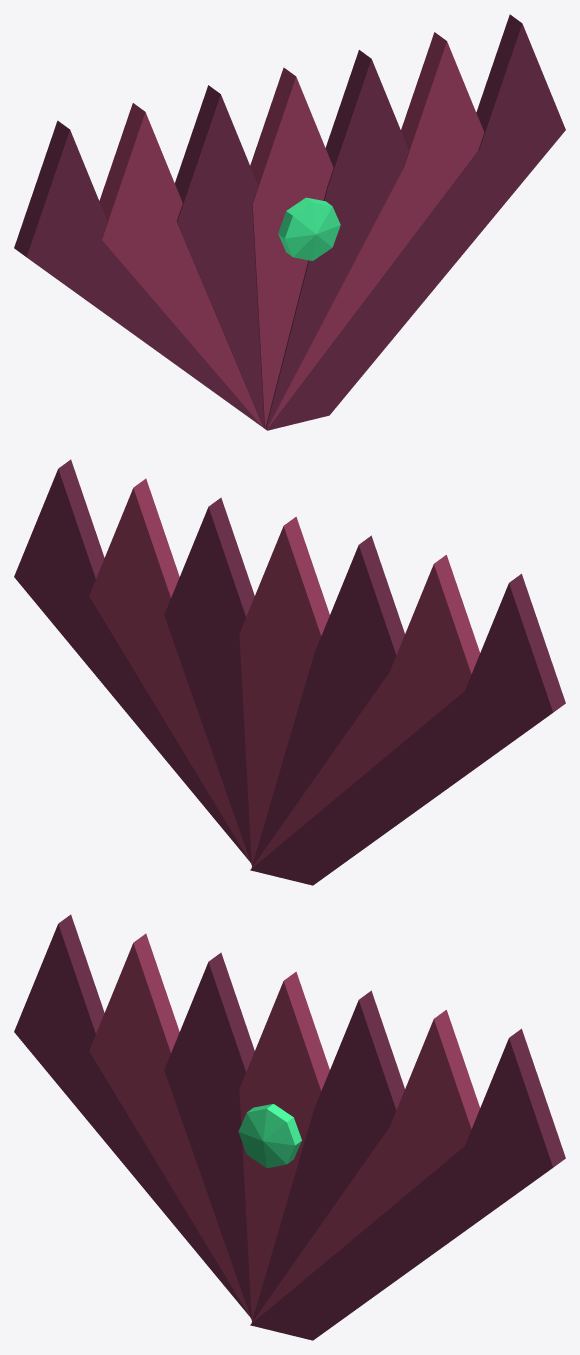
The model's file is crane_feather_leaf.obj.
3 views of the same model, one above another, from view 1: azimuth 30°, elevation 25°; view 2: azimuth 150°, elevation 25°; view 3: azimuth 330°, elevation 25° (orthographic).
Parts seen in each view (by area): view 1: feather_06, feather_05, feather_00, feather_02, feather_01, feather_04, feather_03, crane_eye, feather_06_edge, feather_05_edge, feather_00_edge, feather_03_edge (+3 smaller); view 2: feather_00, feather_01, feather_02, feather_03, feather_04, feather_05, feather_06, feather_00_edge, feather_05_edge, feather_04_edge, feather_02_edge, feather_01_edge (+2 smaller); view 3: feather_06, feather_05, feather_04, feather_02, feather_01, feather_00, feather_03, crane_eye, feather_06_edge, feather_01_edge, feather_02_edge, feather_04_edge (+3 smaller).
Part boxes in pixels (x1,y1,x2,y2): feather_06: (267,24,565,430); feather_05: (267,41,484,428); feather_00: (26,130,261,426); feather_02: (177,94,264,427); feather_01: (102,112,263,427); feather_04: (266,59,408,428); feather_03: (252,77,333,428); crane_eye: (278,197,340,260); feather_06_edge: (267,14,522,430); feather_05_edge: (266,32,446,429); feather_00_edge: (14,120,69,256); feather_03_edge: (250,67,296,428); feather_00: (250,583,552,885); feather_01: (251,564,471,868); feather_02: (251,545,396,867); feather_03: (239,526,321,865); feather_04: (164,507,251,864); feather_05: (89,488,250,862); feather_06: (14,469,249,860); feather_00_edge: (509,573,565,712); feather_05_edge: (133,478,179,597); feather_04_edge: (208,497,254,616); feather_02_edge: (359,535,404,654); feather_01_edge: (434,555,479,673); feather_06: (250,1038,552,1340); feather_05: (251,1019,471,1323); feather_04: (251,1000,396,1322); feather_02: (164,962,251,1319); feather_01: (89,943,250,1317); feather_00: (14,924,249,1315); feather_03: (239,981,321,1320); crane_eye: (238,1104,301,1168); feather_06_edge: (509,1028,565,1167); feather_01_edge: (133,933,179,1052); feather_02_edge: (208,952,254,1071); feather_04_edge: (359,990,404,1109).
Size of the model in its own units: 1.72 by 1.06 by 0.1937.
